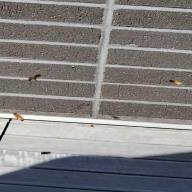Bee: (157, 76, 190, 92), (9, 108, 31, 126), (22, 70, 45, 84)
